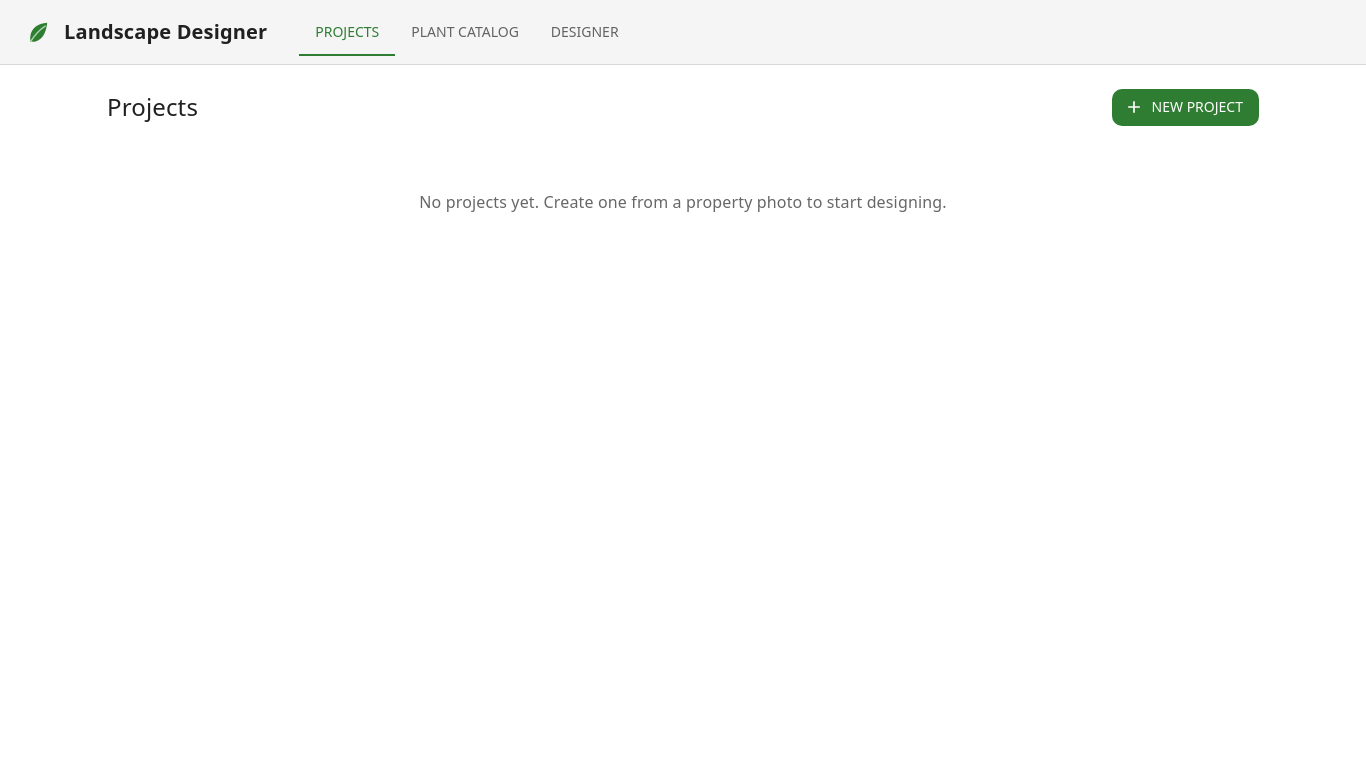
Test: App shell › keeps the user on Projects and explains why when Designer is opened with no project
Expected: the text "No projects yet. Create one from a property photo to start designing." is shown, [419,190,947,212]
Click the tab "Designer" at (585, 32), box [535,8,635,56]
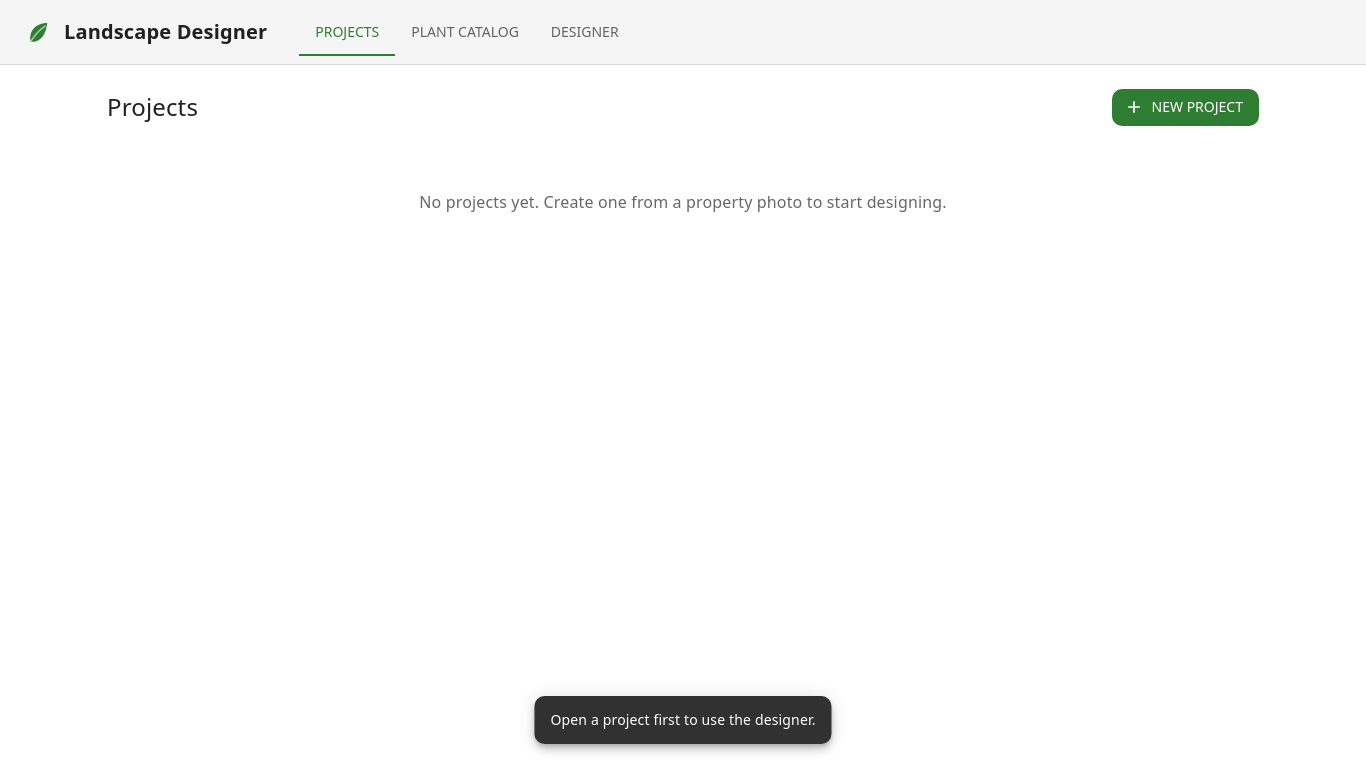
Expected: the text "No projects yet. Create one from a property photo to start designing." is shown, [419,190,947,212]
Expected: the text "Open a project first to use the designer." is shown, [550,710,816,729]
